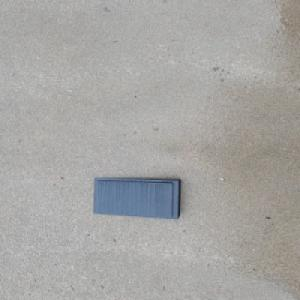PlasticPart: (92, 177, 181, 219)
